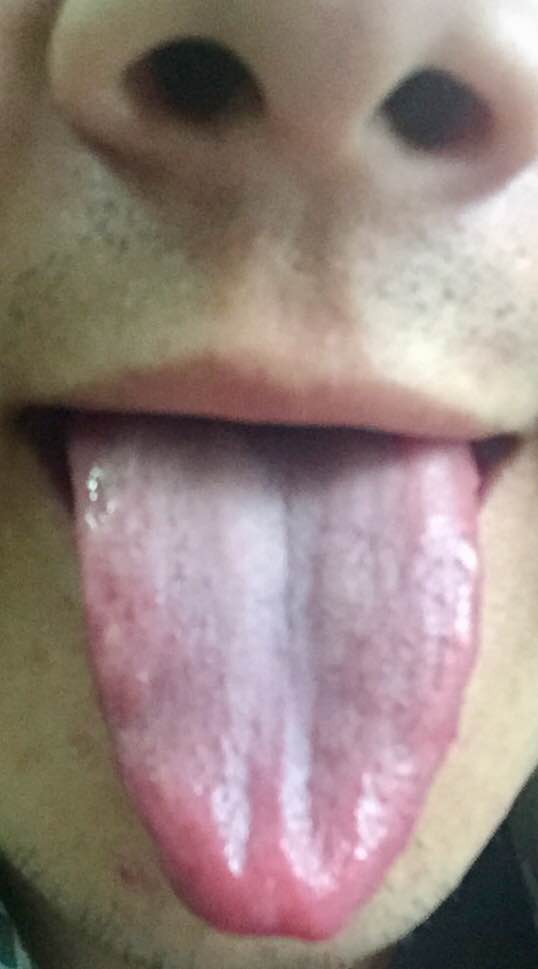baitaishe: (66, 410, 482, 944)
hongshe: (65, 409, 481, 943)
huataishe: (75, 444, 126, 558)
